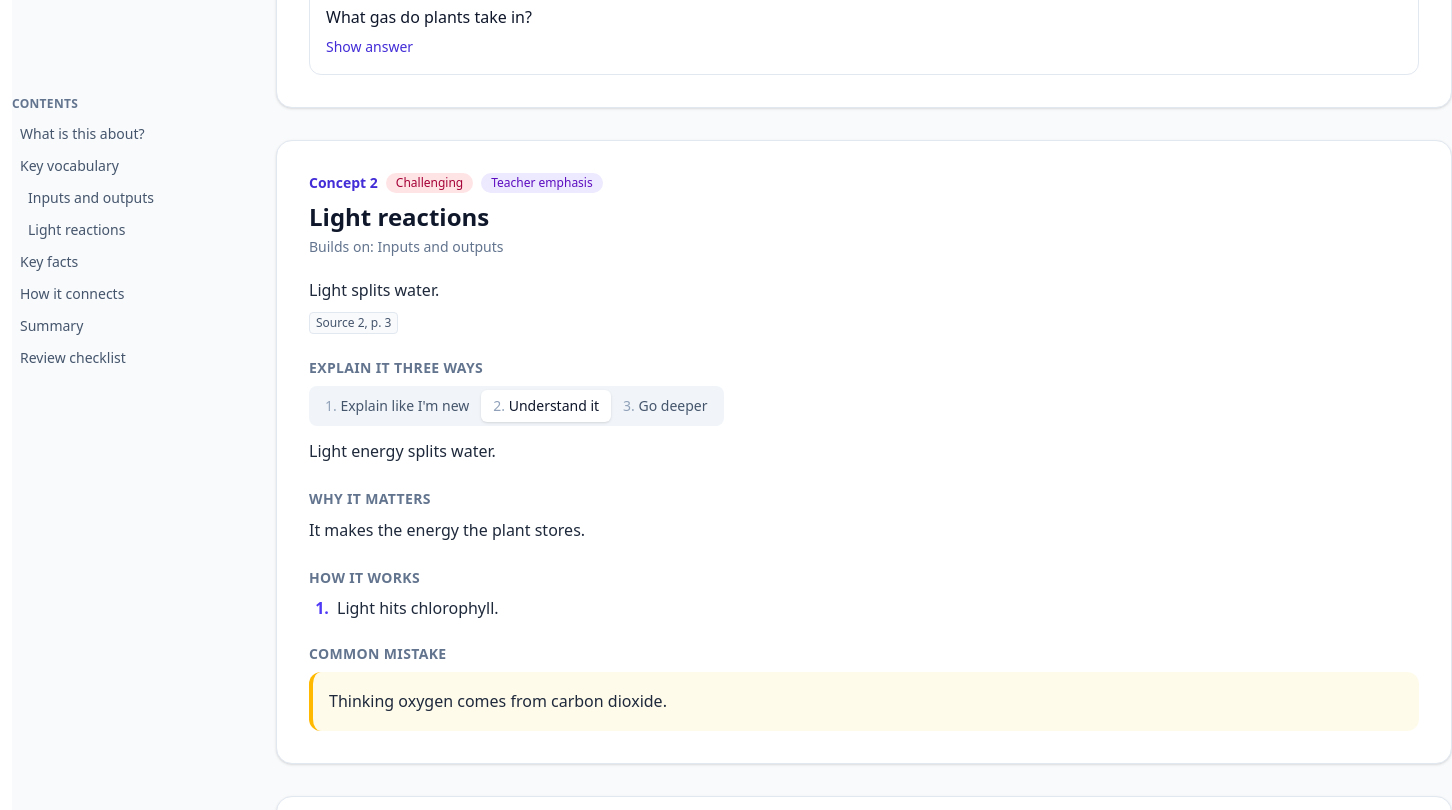
Scenario: GuideView › switches between the three explanation levels
(page scrolled)
Check: the text "Light energy splits water." is shown, box [309, 440, 496, 462]
What coordinates should you click on to do the following:
click the tab "1. Explain like I'm new"
I would click on:
 (397, 406)
Its box is [313, 390, 481, 422].
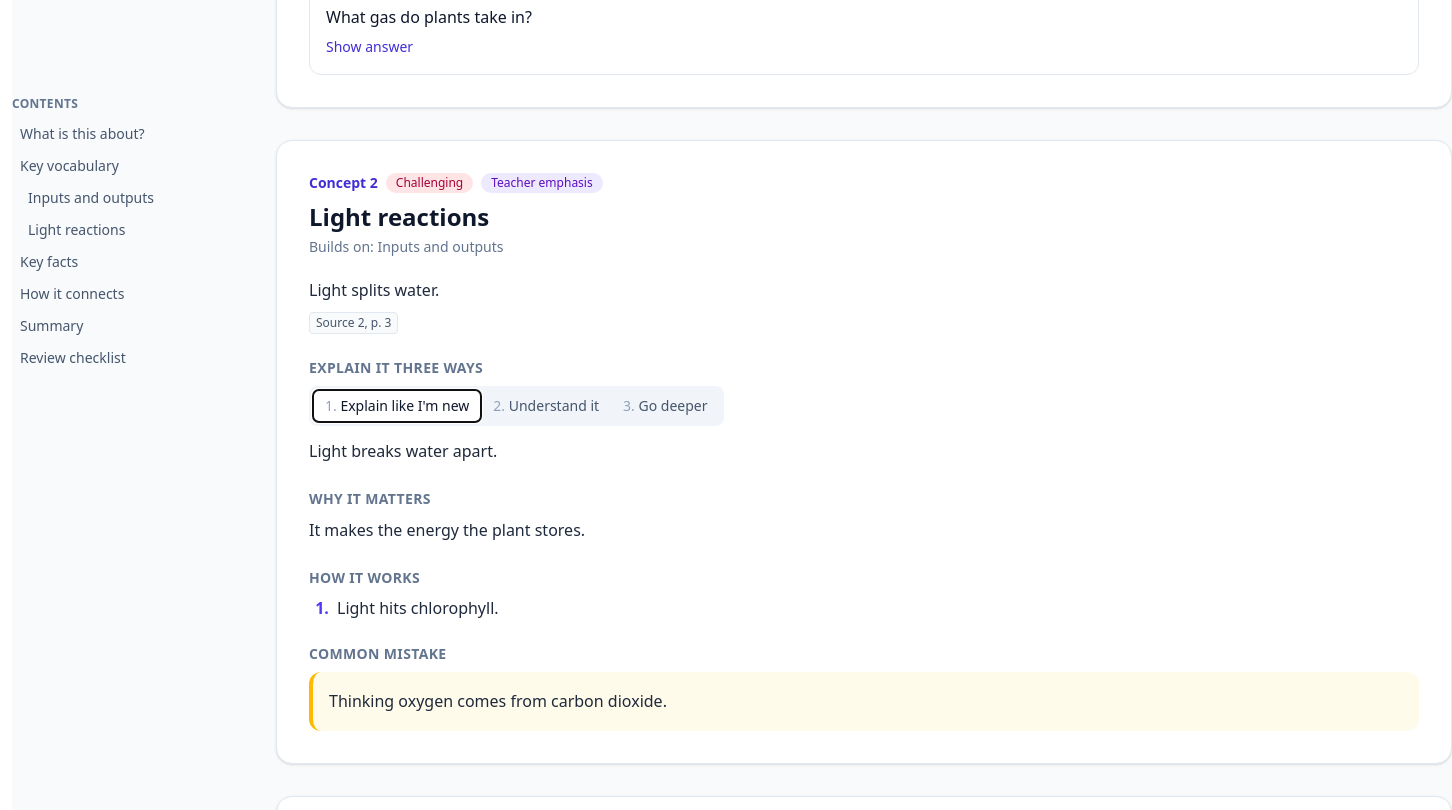
Check: the text "Light breaks water apart." is shown, box [309, 440, 497, 462]
